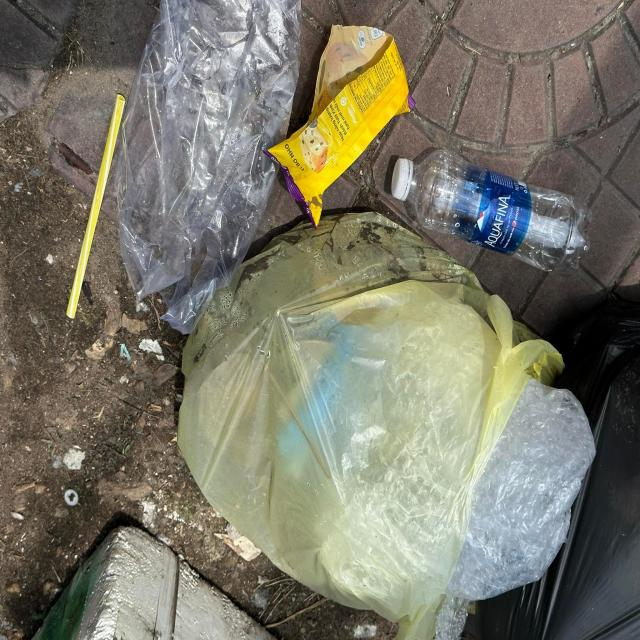bag: (118, 0, 301, 331)
bottle: (394, 150, 592, 278)
drinking straw: (66, 96, 126, 322)
snack package: (262, 25, 416, 232)
trash bag: (177, 213, 595, 640)
